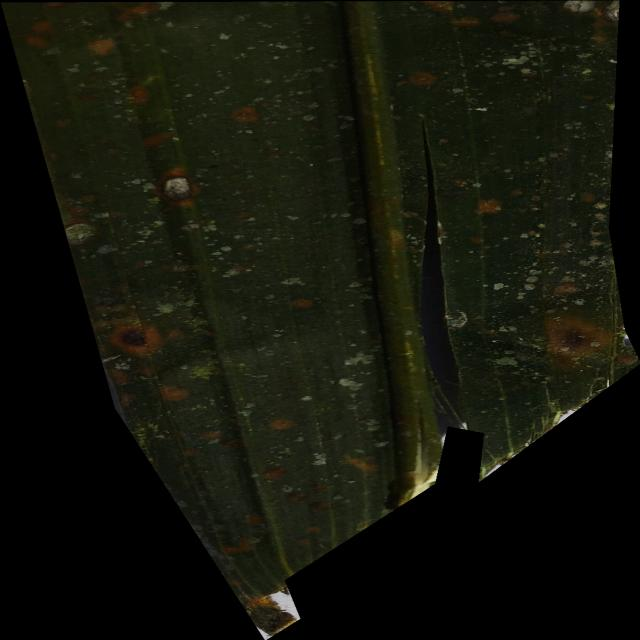Infected: (1, 0, 640, 640)
